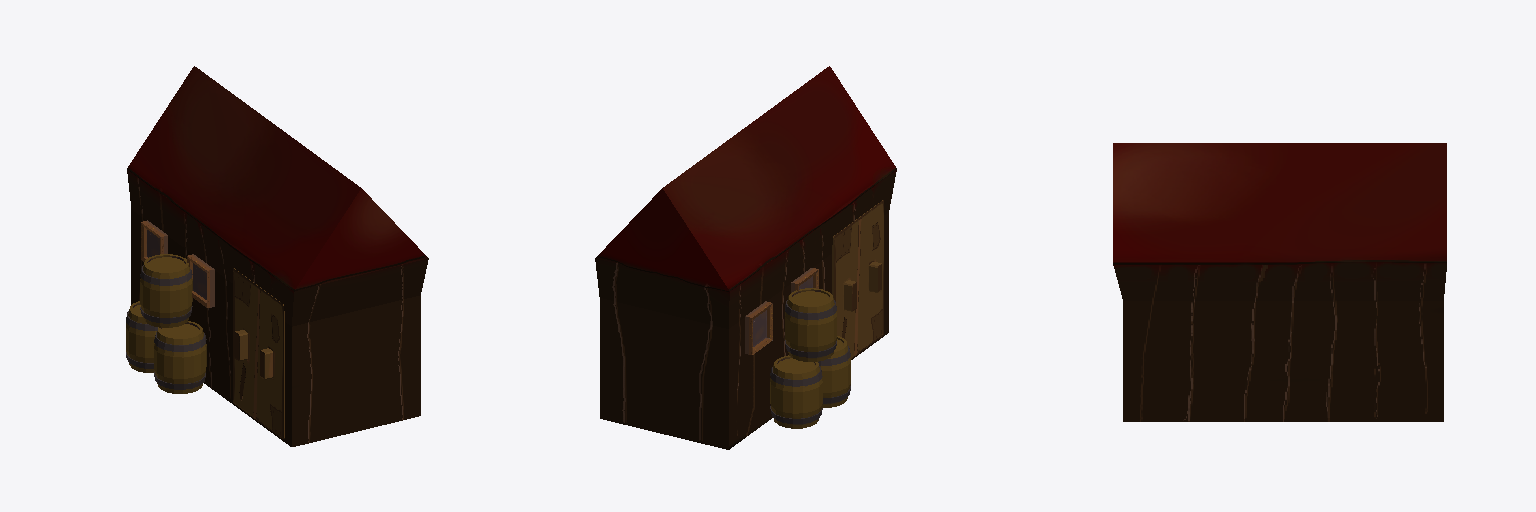
3 views of the same model, side by side, from view 1: azimuth 30°, elevation 25°; view 2: azimuth 150°, elevation 25°; view 3: azimuth 270°, elevation 25° (orthographic).
Parts seen in each view (by area): view 1: Cube.025_Cube.023; view 2: Cube.025_Cube.023; view 3: Cube.025_Cube.023.
Boxes of the visible parts, box(x1,y1,x2,y2) form: Cube.025_Cube.023: box(126, 66, 428, 446); Cube.025_Cube.023: box(595, 66, 896, 449); Cube.025_Cube.023: box(1113, 143, 1446, 421).
Size of the model in its own units: 7.76 by 10.29 by 12.61.
4 materials, 4 textured.